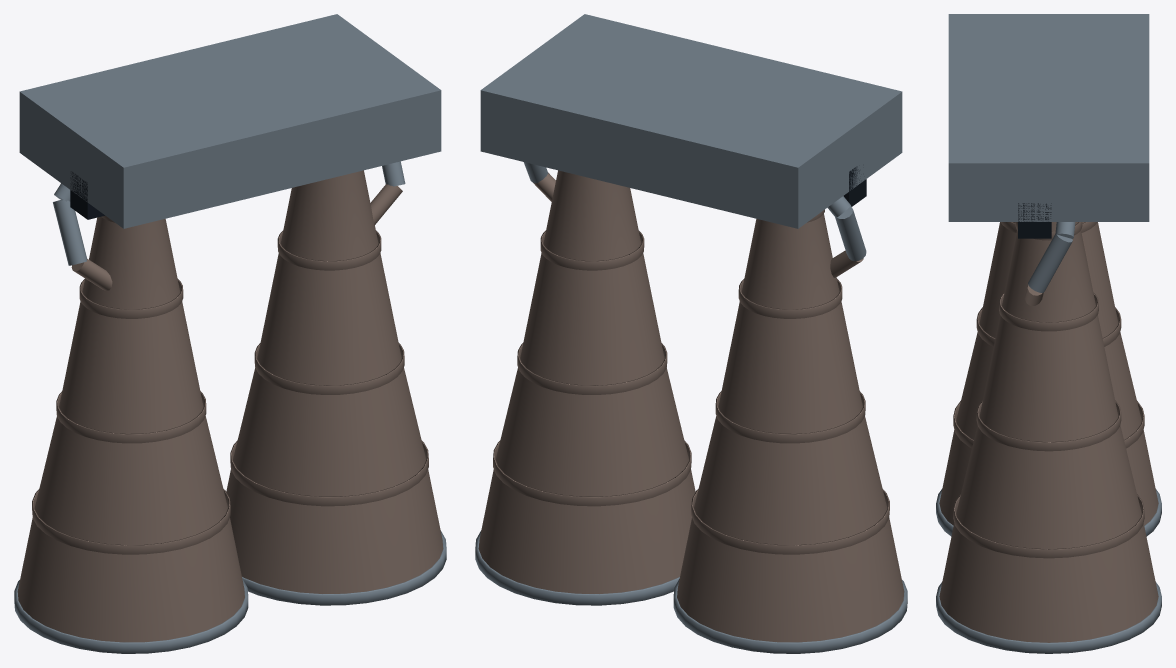
File: rd180_engine.glb
3 views of the same model, side by side, from view 1: azimuth 30°, elevation 25°; view 2: azimuth 150°, elevation 25°; view 3: azimuth 270°, elevation 25° (orthographic). The views are drawn at different scales.
Parts seen in each view (by area): view 1: atlas_v_corerd180chamber_01bellmesh_Heat-stained_alloy, atlas_v_corerd180chamber_02bellmesh_Heat-stained_alloy, atlas_v_corerd180mesh_Machined_steel, atlas_v_corerd180chamber_01bellmesh_Machined_steel, atlas_v_corerd180chamber_02bellmesh_Machined_steel, rd180_engine.simplified_feed_hardware.mesh_Machined_steel, rd180_engine.simplified_feed_hardware.mesh_Heat-stained_allo, rd180_engine.simplified_feed_hardware.mesh_Shadowed_interior; view 2: atlas_v_corerd180chamber_01bellmesh_Heat-stained_alloy, atlas_v_corerd180chamber_02bellmesh_Heat-stained_alloy, atlas_v_corerd180mesh_Machined_steel, atlas_v_corerd180chamber_01bellmesh_Machined_steel, atlas_v_corerd180chamber_02bellmesh_Machined_steel, rd180_engine.simplified_feed_hardware.mesh_Machined_steel, rd180_engine.simplified_feed_hardware.mesh_Heat-stained_allo; view 3: atlas_v_corerd180chamber_02bellmesh_Heat-stained_alloy, atlas_v_corerd180mesh_Machined_steel, atlas_v_corerd180chamber_01bellmesh_Heat-stained_alloy, atlas_v_corerd180chamber_02bellmesh_Machined_steel, rd180_engine.simplified_feed_hardware.mesh_Machined_steel, rd180_engine.simplified_feed_hardware.mesh_Shadowed_interior, atlas_v_corerd180chamber_01bellmesh_Machined_steel.
Part boxes in pixels (box(x1,y1,x2,y2)): atlas_v_corerd180chamber_01bellmesh_Heat-stained_alloy: box(17, 215, 244, 642); atlas_v_corerd180chamber_02bellmesh_Heat-stained_alloy: box(226, 170, 443, 593); atlas_v_corerd180mesh_Machined_steel: box(19, 14, 441, 228); atlas_v_corerd180chamber_01bellmesh_Machined_steel: box(14, 579, 248, 653); atlas_v_corerd180chamber_02bellmesh_Machined_steel: box(242, 530, 446, 605); rd180_engine.simplified_feed_hardware.mesh_Machined_steel: box(53, 161, 405, 265); rd180_engine.simplified_feed_hardware.mesh_Heat-stained_allo: box(71, 184, 402, 290); rd180_engine.simplified_feed_hardware.mesh_Shadowed_interior: box(70, 171, 104, 219); atlas_v_corerd180chamber_01bellmesh_Heat-stained_alloy: box(677, 209, 904, 642); atlas_v_corerd180chamber_02bellmesh_Heat-stained_alloy: box(478, 170, 695, 593); atlas_v_corerd180mesh_Machined_steel: box(480, 14, 902, 228); atlas_v_corerd180chamber_01bellmesh_Machined_steel: box(673, 579, 907, 653); atlas_v_corerd180chamber_02bellmesh_Machined_steel: box(475, 530, 679, 605); rd180_engine.simplified_feed_hardware.mesh_Machined_steel: box(524, 162, 866, 261); rd180_engine.simplified_feed_hardware.mesh_Heat-stained_allo: box(533, 172, 863, 277); atlas_v_corerd180chamber_02bellmesh_Heat-stained_alloy: box(939, 222, 1158, 642); atlas_v_corerd180mesh_Machined_steel: box(948, 14, 1149, 221); atlas_v_corerd180chamber_01bellmesh_Heat-stained_alloy: box(939, 222, 1158, 525); atlas_v_corerd180chamber_02bellmesh_Machined_steel: box(936, 582, 1161, 653); rd180_engine.simplified_feed_hardware.mesh_Machined_steel: box(1028, 222, 1075, 292); rd180_engine.simplified_feed_hardware.mesh_Shadowed_interior: box(1018, 203, 1051, 238); atlas_v_corerd180chamber_01bellmesh_Machined_steel: box(936, 489, 1161, 536).
Size of the model in its own units: 3.16 by 3.68 by 1.6.
